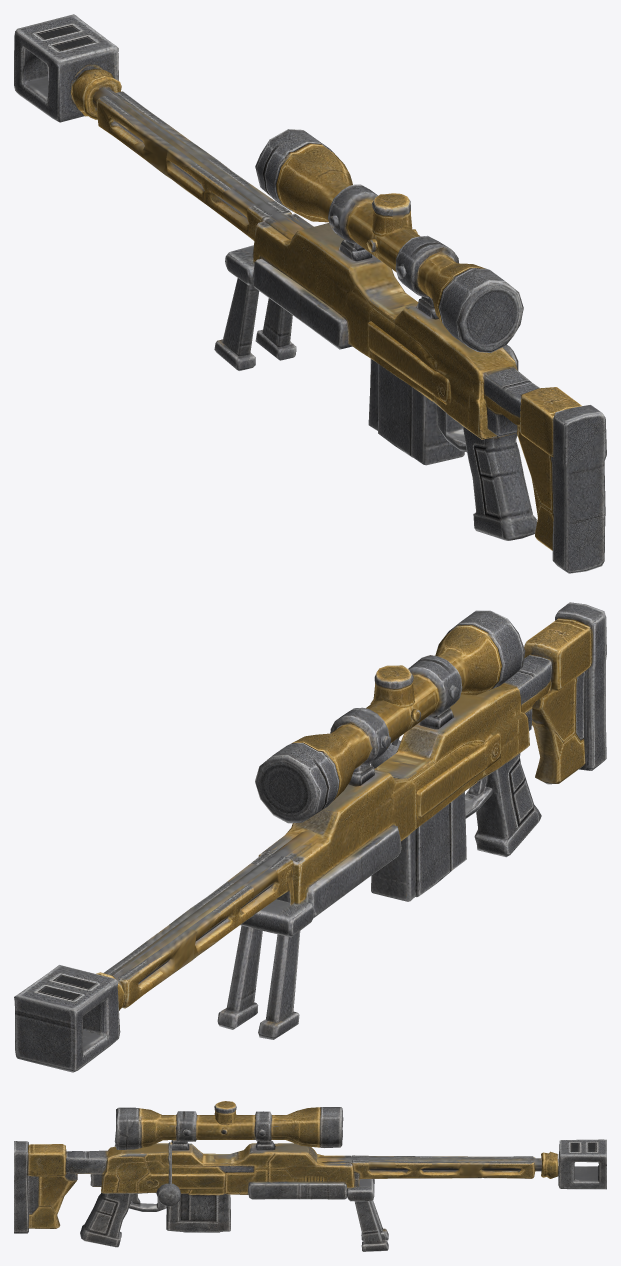
Rendered from BS01_Weapon_Sniper.fbx.
3 renders of one model, top to bottom at view 1: azimuth 30°, elevation 25°; view 2: azimuth 150°, elevation 25°; view 3: azimuth 270°, elevation 25°, orthographic. The views are drawn at different scales.
Visible parts, largest first — view 1: BS01_Weapon_Sniper; view 2: BS01_Weapon_Sniper; view 3: BS01_Weapon_Sniper.
Part boxes in pixels (left/top/right/bottom): BS01_Weapon_Sniper: left=14, top=14, right=606, bottom=573; BS01_Weapon_Sniper: left=14, top=602, right=606, bottom=1072; BS01_Weapon_Sniper: left=14, top=1101, right=606, bottom=1251.
Size of the model in its own units: 0.1657 by 0.4042 by 1.55.
Materials: 1 (1 with a texture image).
